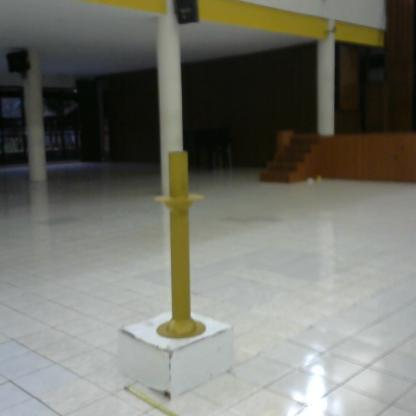pole: (151, 147, 218, 356)
